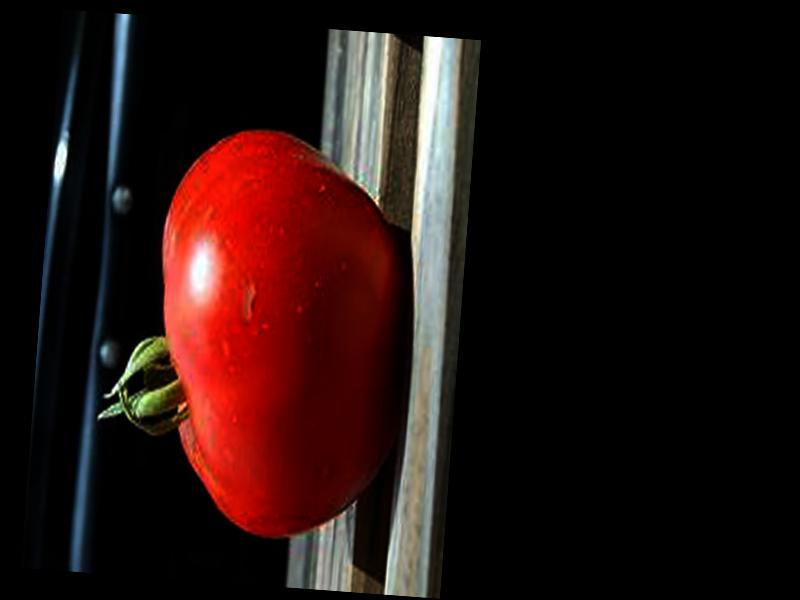Tomato: (92, 119, 416, 545)
